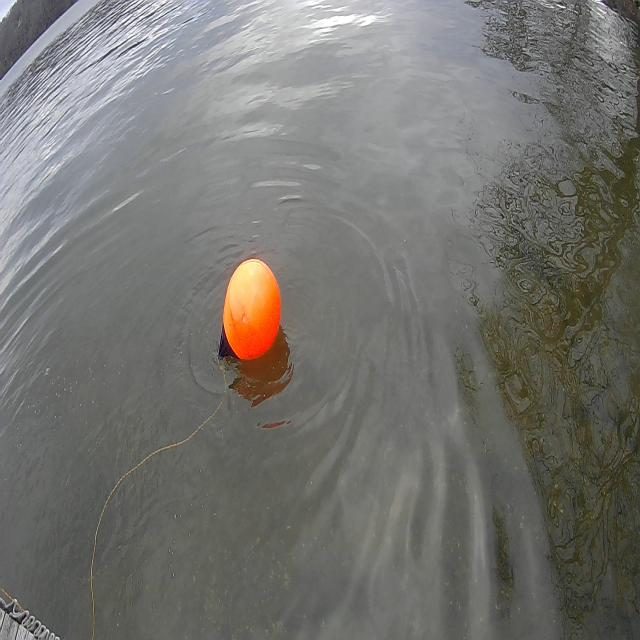Buoy: (220, 252, 285, 370)
